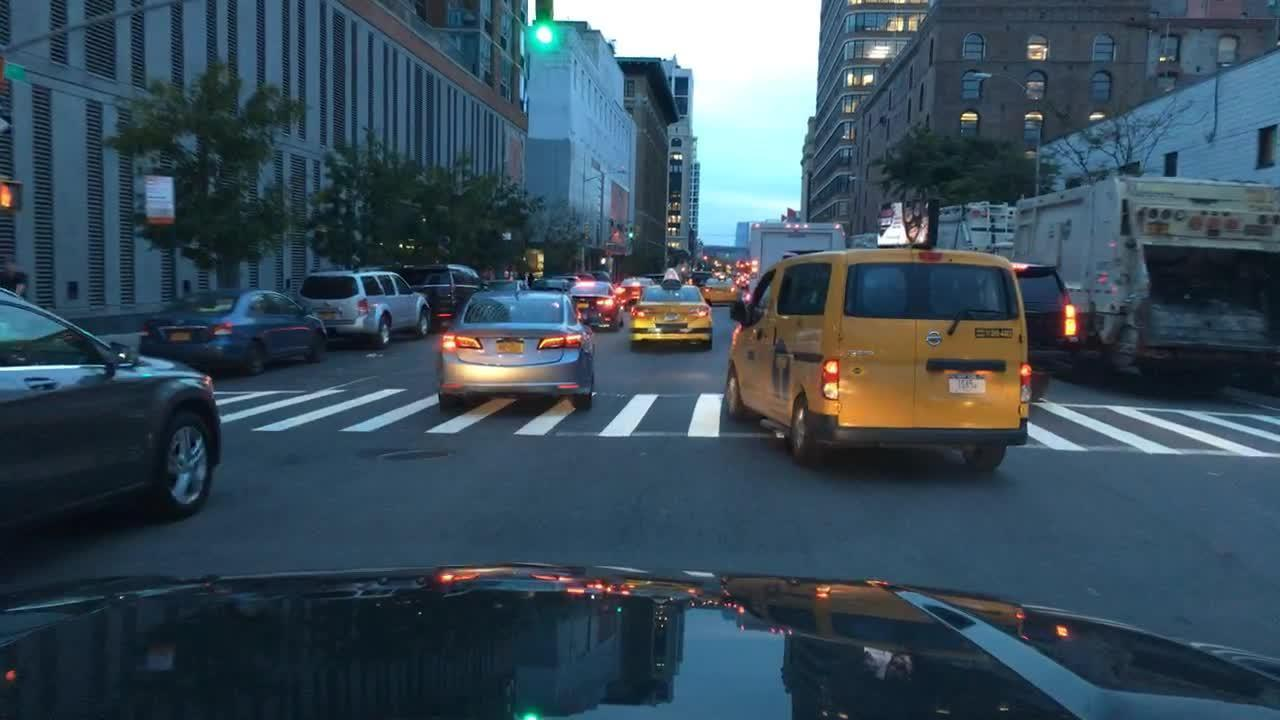Nissan: (919, 325, 948, 351)
